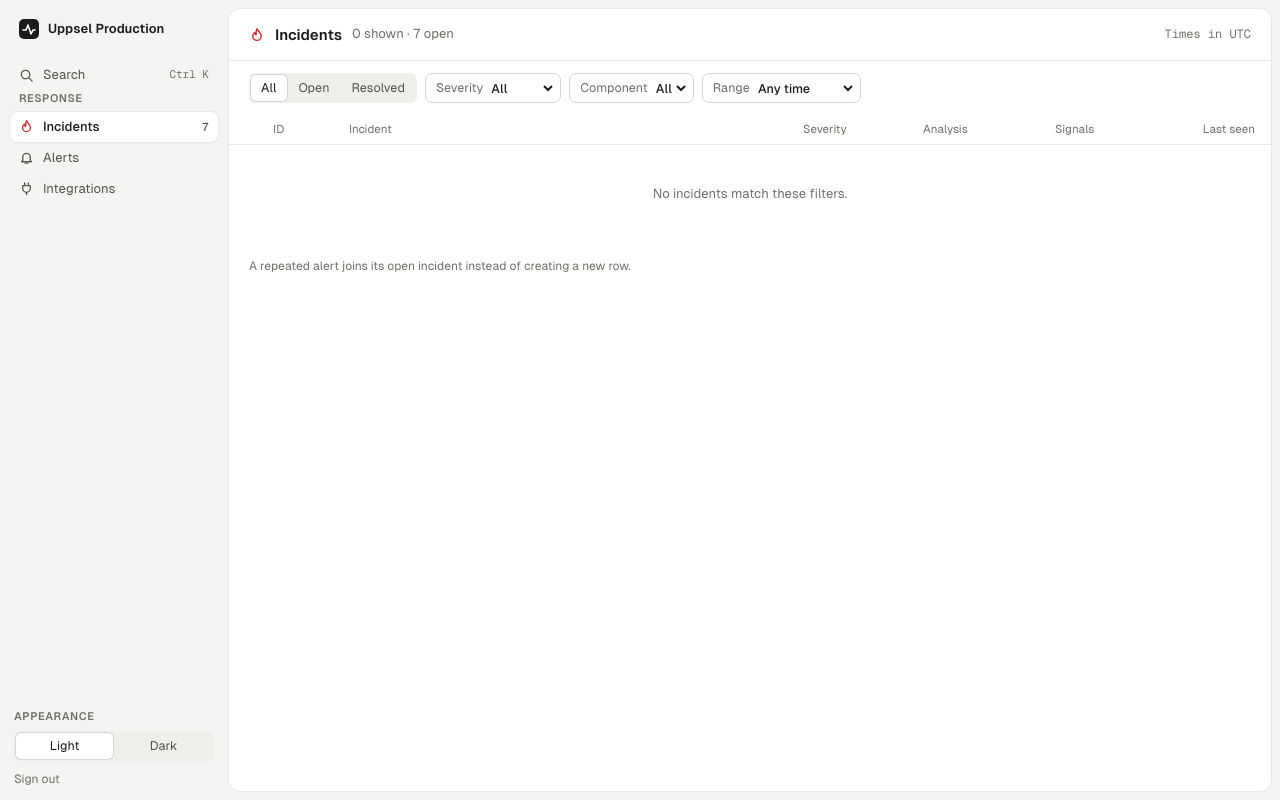
Test case: search › opens on Ctrl-K, queries by title and opens the chosen incident
Expected: the text "No incidents match these filters." is shown, [229, 144, 1271, 244]
Press k
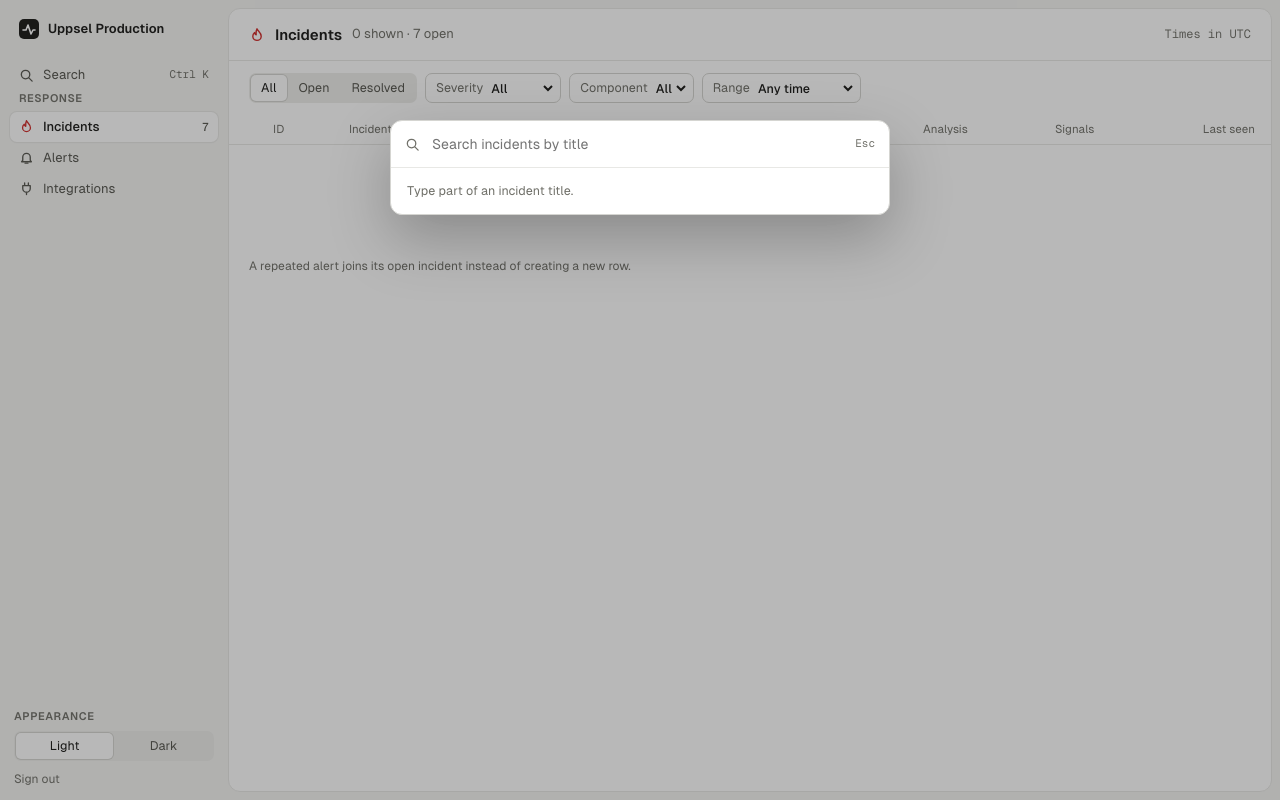
In the dropdown: (638, 144) [430, 133, 845, 155], type "pay"
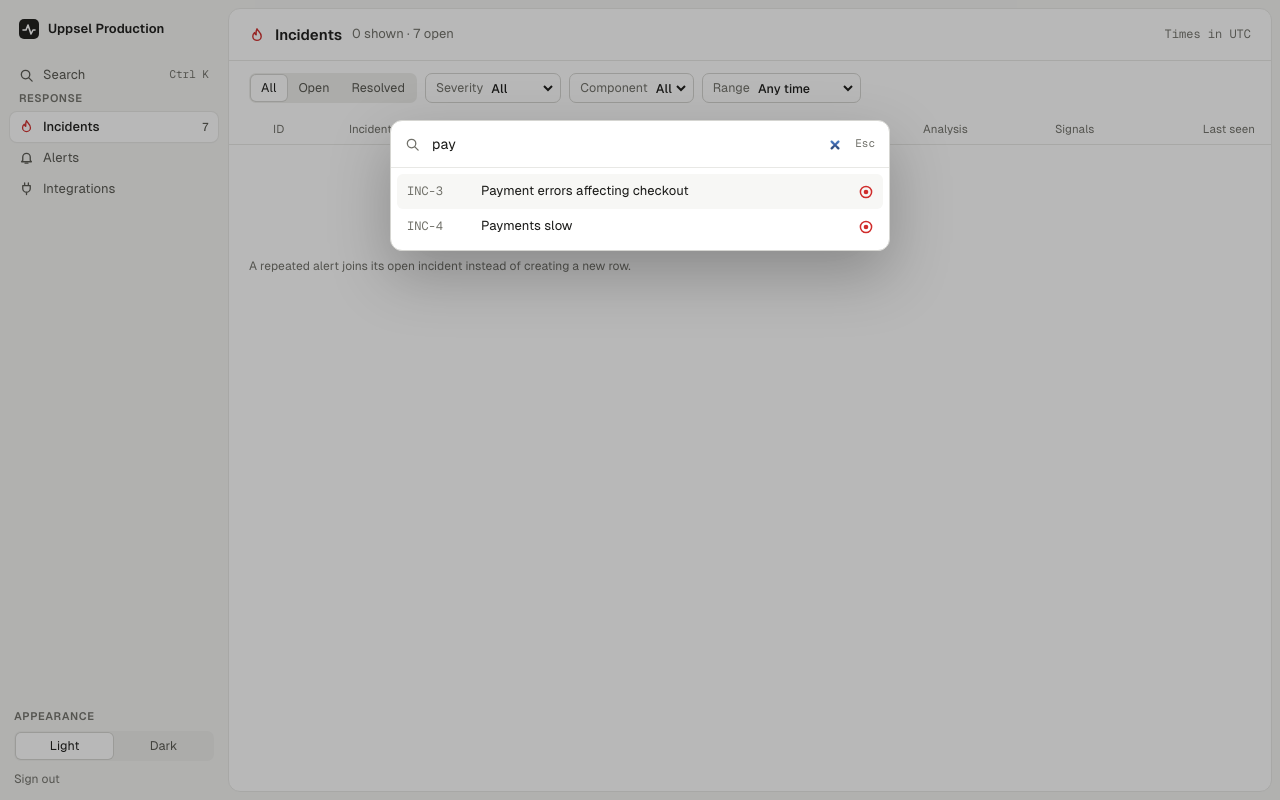
Now the text "INC-4" is shown, box [407, 218, 443, 234]
Press Arrowdown Enter
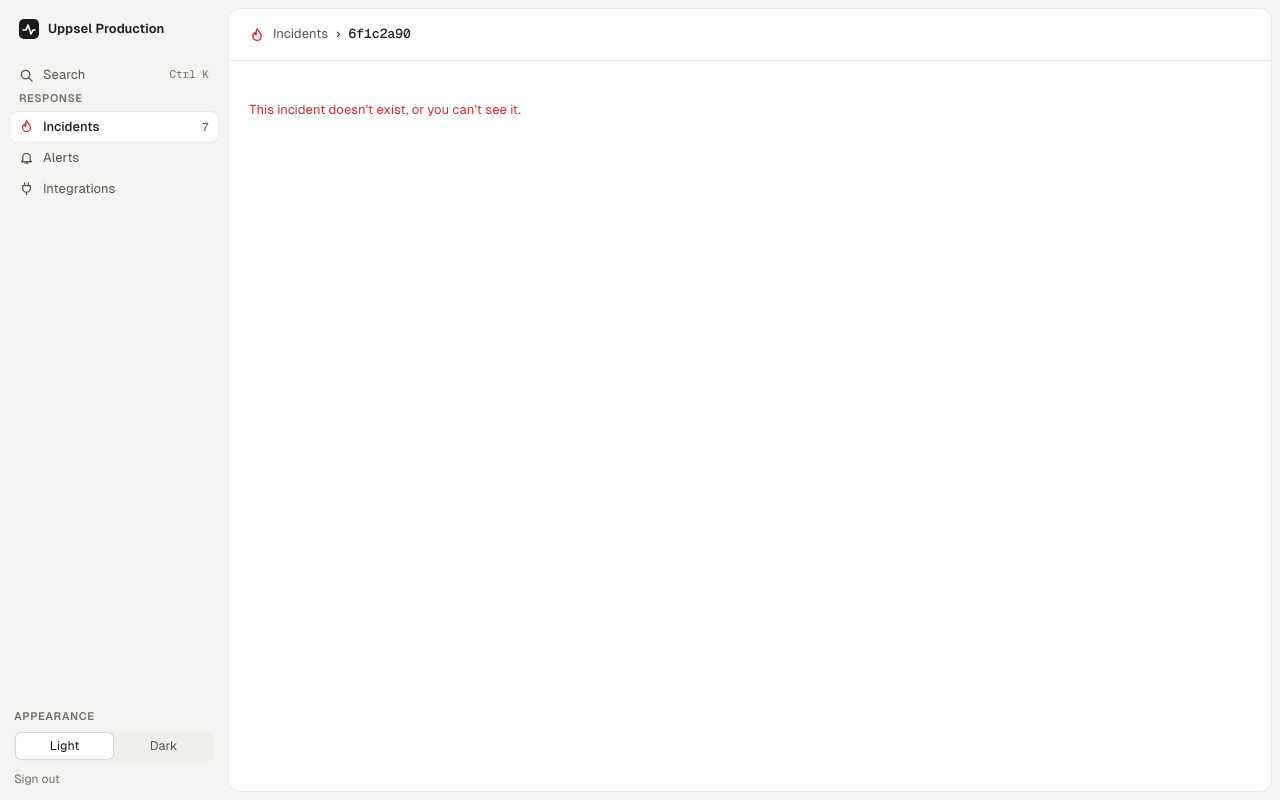
Now the dialog is gone
